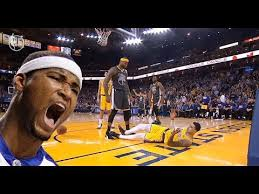10+: (2, 27, 259, 165)
down: (114, 118, 202, 146)
